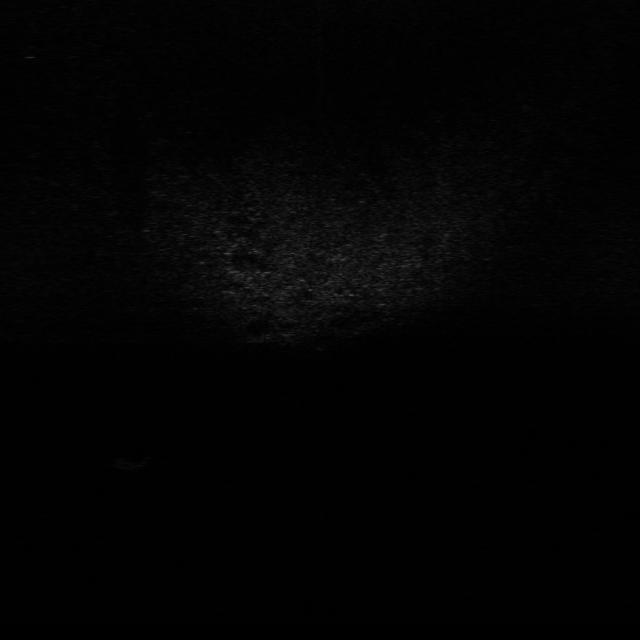cube: (114, 444, 157, 473)
